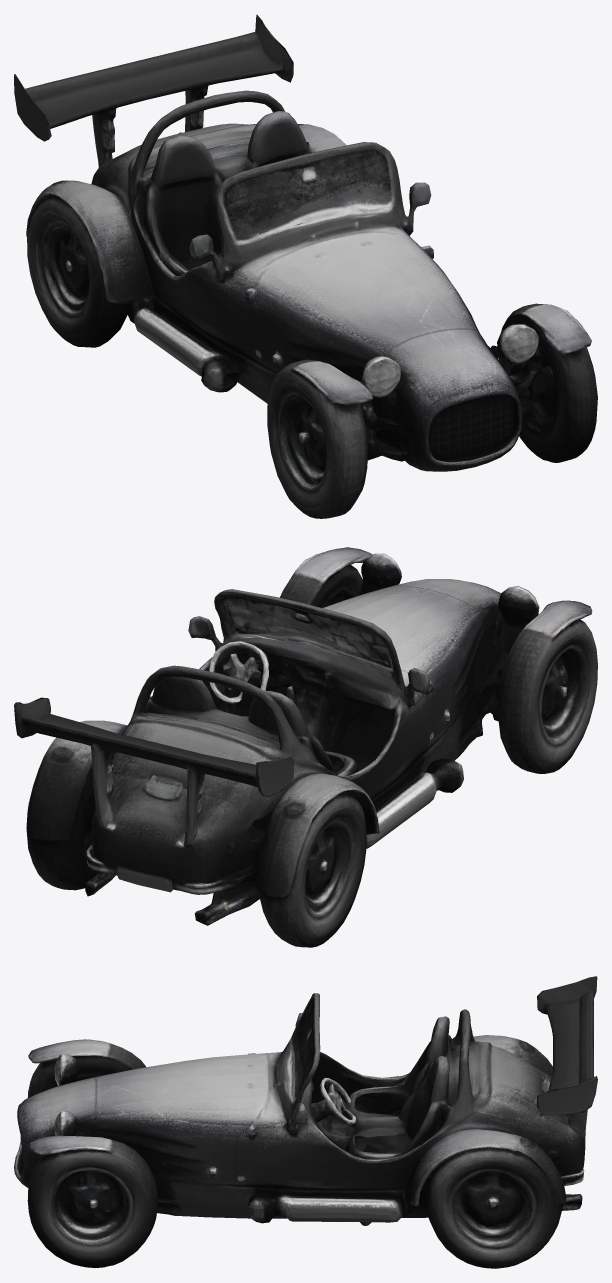
The picture shows the model from 3 angles, top to bottom: view 1: azimuth 30°, elevation 25°; view 2: azimuth 150°, elevation 25°; view 3: azimuth 270°, elevation 25°; orthographic projection. The views are drawn at different scales.
Parts seen in each view (by area): view 1: world; view 2: world; view 3: world.
Part boxes in pixels (left/top/right/bottom): world: left=14, top=14, right=597, bottom=518; world: left=14, top=547, right=597, bottom=947; world: left=14, top=976, right=597, bottom=1268.
Bounding box in the file's own units: 0.4566 × 0.3722 × 0.9957.
Materials: 1 (1 with a texture image).
